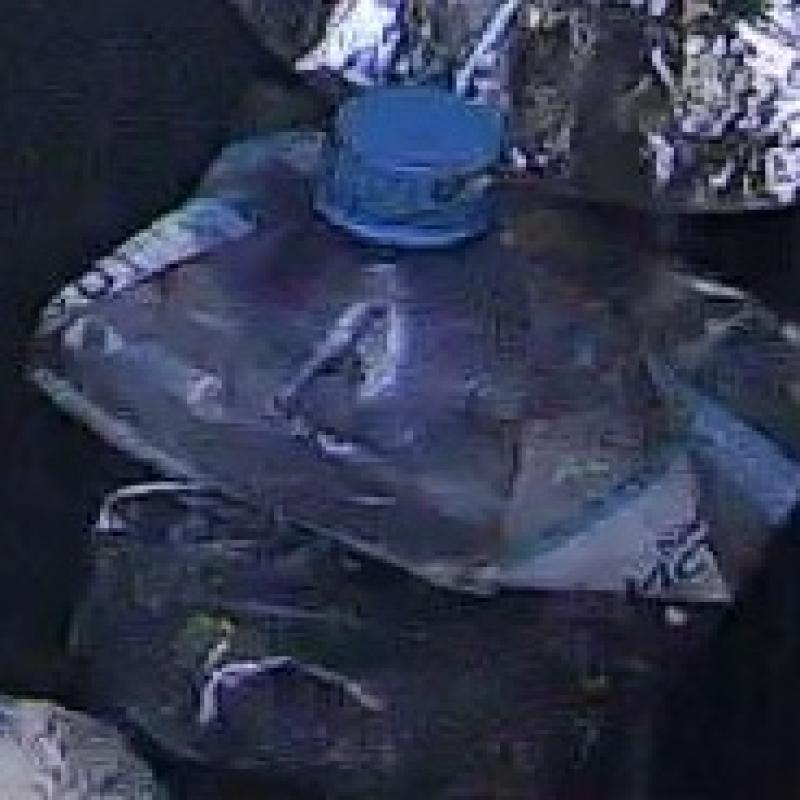botella: (43, 89, 800, 777)
